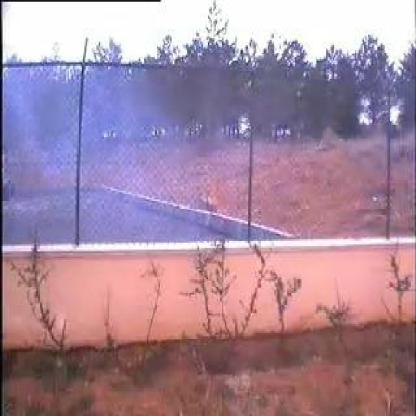-: (40, 84, 196, 237)
